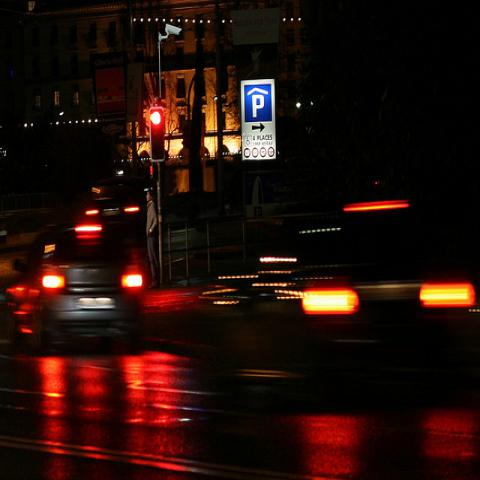car: (274, 180, 479, 332), (6, 224, 142, 355), (72, 175, 152, 246)
